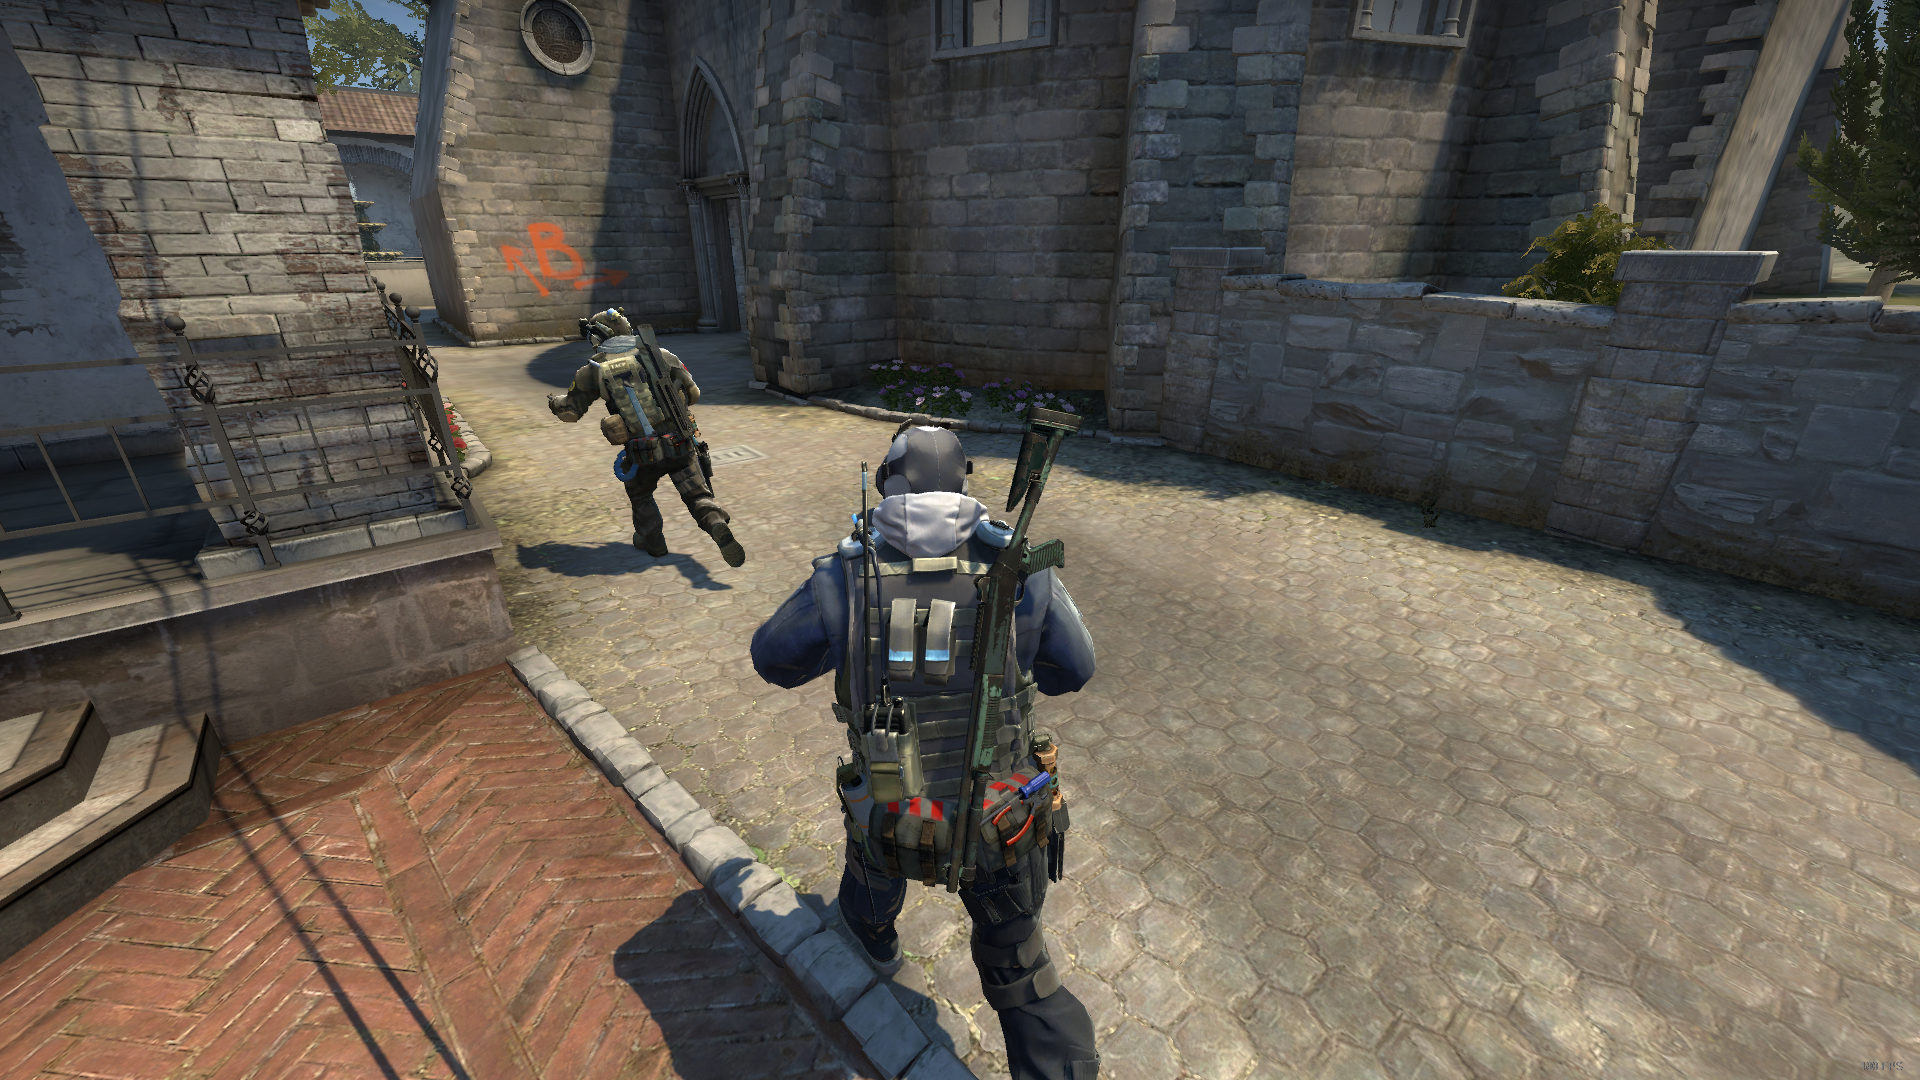ct: (752, 419, 1097, 1080)
